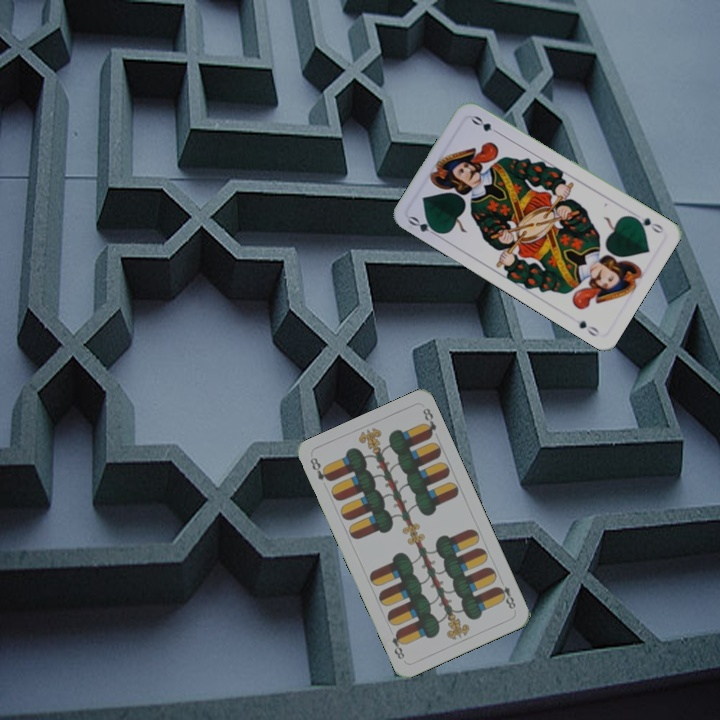E8: (493, 575, 519, 612), (306, 453, 334, 484)
GO: (404, 212, 444, 240), (628, 212, 666, 236)
